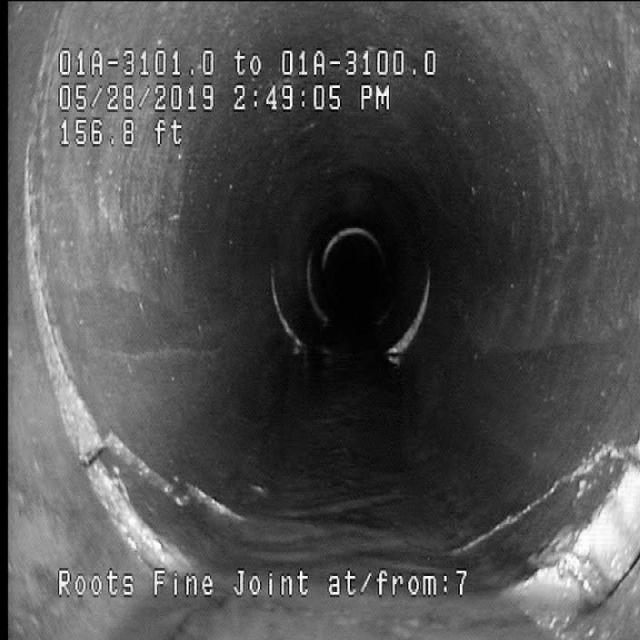Crack: (462, 422, 615, 544)
Fracture: (84, 400, 326, 542)
